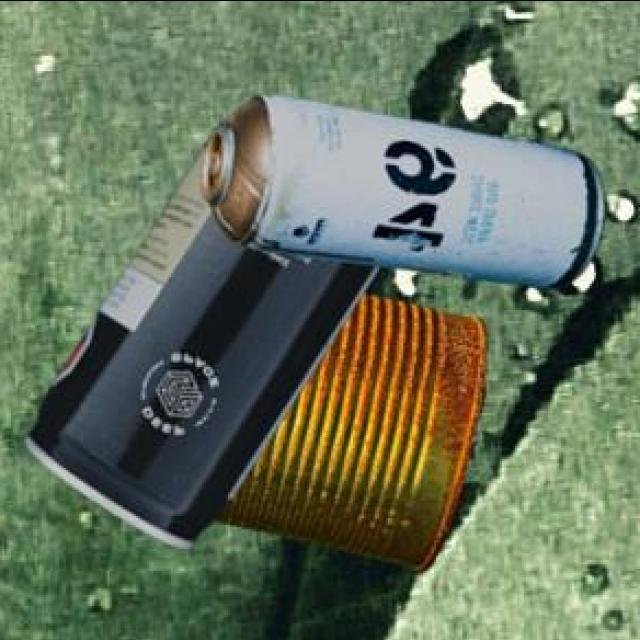logam: (21, 144, 376, 545), (198, 91, 602, 284), (212, 290, 483, 567)
